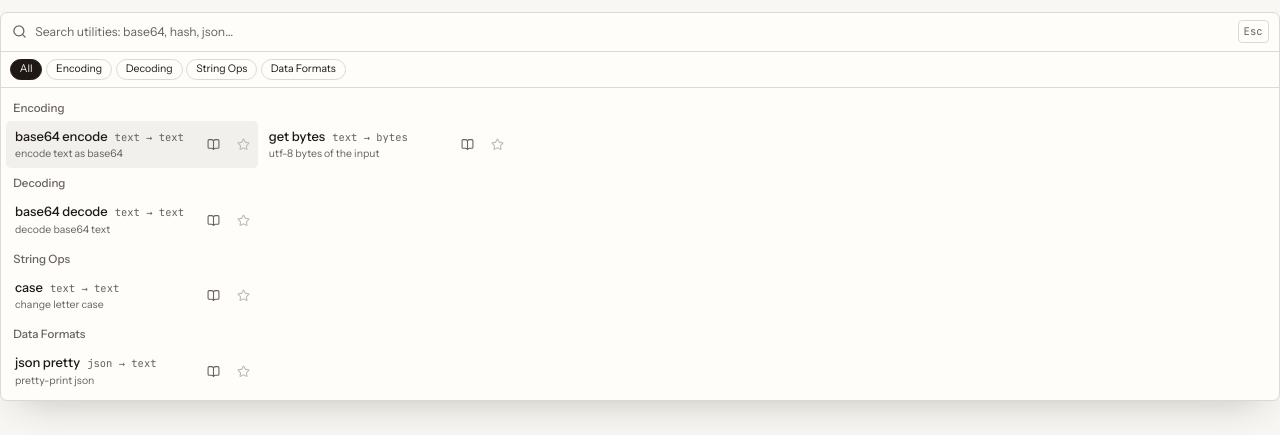
UtilityPicker › filters by category chip
The width and height of the screenshot is (1280, 435).
Click the button "Decoding": x=149, y=69 left=116, top=58, right=183, bottom=80
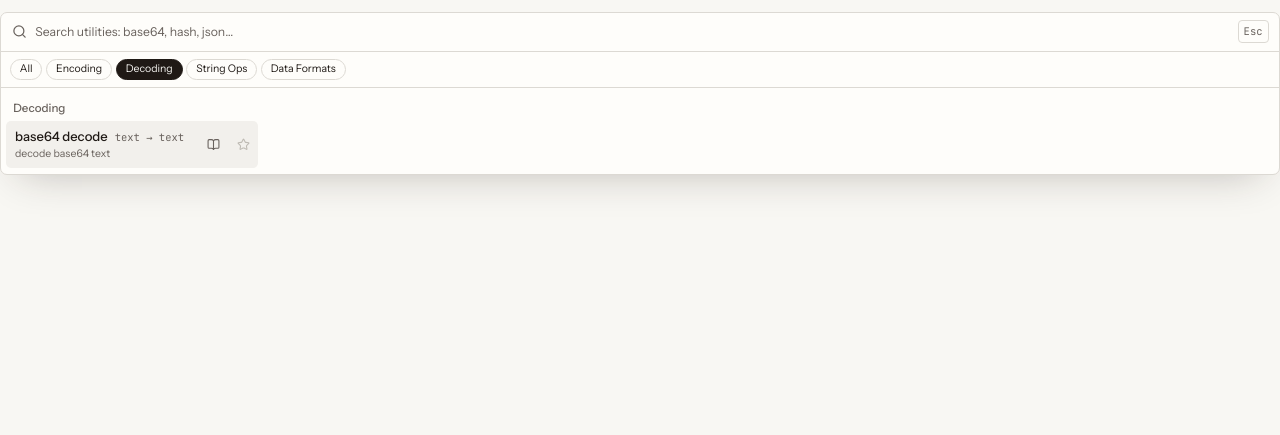
Expected: the text "base64 decode" is shown, left=15, top=128, right=108, bottom=145
Expected: the option "base64 encode" is gone
